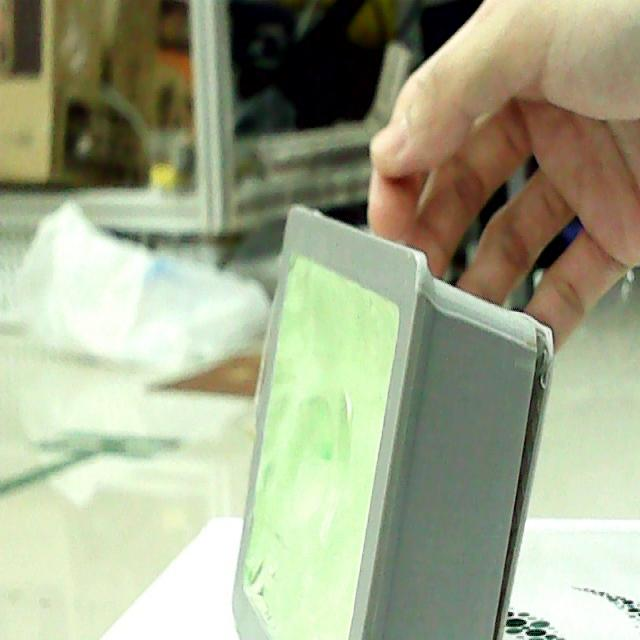block: (220, 185, 534, 640)
